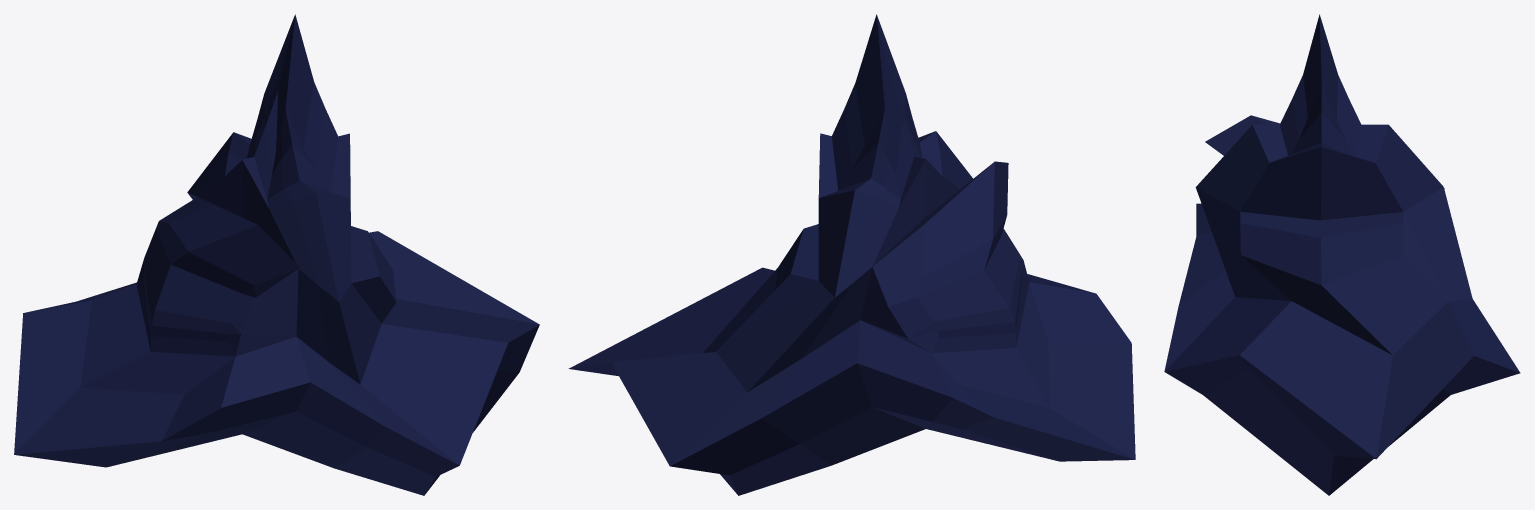
File: cave_spike_short.fbx
3 views of the same model, side by side, from view 1: azimuth 30°, elevation 25°; view 2: azimuth 150°, elevation 25°; view 3: azimuth 270°, elevation 25° (orthographic). The views are drawn at different scales.
Visible parts, largest first — view 1: cave_spike_short; view 2: cave_spike_short; view 3: cave_spike_short.
Part boxes in pixels (x1,y1,x2,y2): cave_spike_short: (14,14,539,495); cave_spike_short: (568,14,1135,495); cave_spike_short: (1164,14,1520,495).
Size of the model in its own units: 1.03 by 0.7021 by 0.9302.
